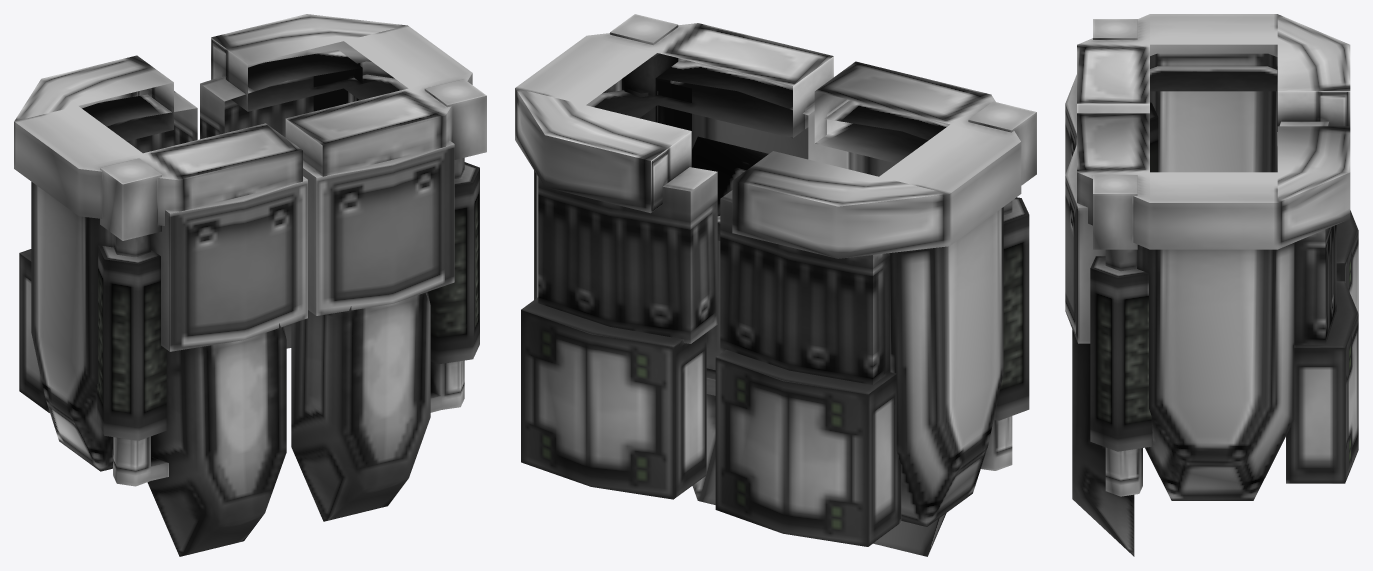
Rendered from mps_pantaloons.obj.
The picture shows the model from 3 angles, left to right: view 1: azimuth 30°, elevation 25°; view 2: azimuth 150°, elevation 25°; view 3: azimuth 270°, elevation 25°; orthographic projection. The views are drawn at different scales.
Visible parts, largest first — view 1: leg1, leg2; view 2: leg1, leg2; view 3: leg2, leg1.
Boxes of the visible parts, x1=… form: leg1: x1=14, y1=55, x2=307, y2=556; leg2: x1=200, y1=14, x2=486, y2=521; leg1: x1=715, y1=61, x2=1036, y2=556; leg2: x1=515, y1=14, x2=833, y2=504; leg2: x1=1065, y1=113, x2=1358, y2=556; leg1: x1=1065, y1=14, x2=1358, y2=313.
Size of the model in its own units: 11.21 by 11.06 by 7.34.
